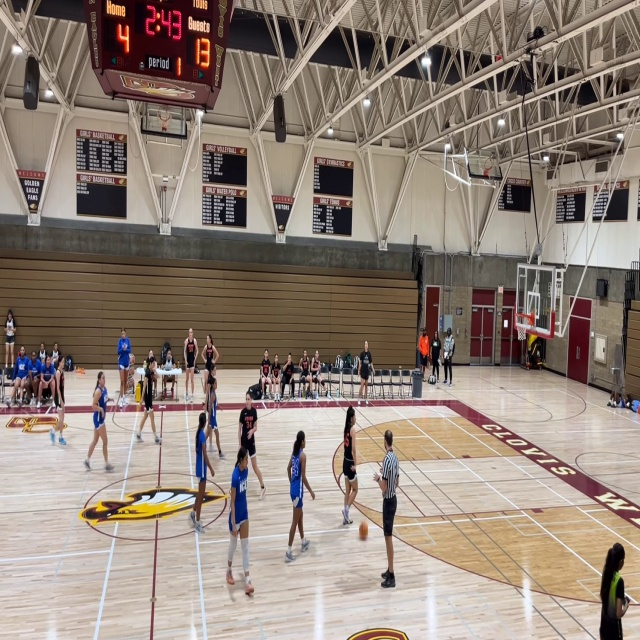Basketball: (359, 521, 368, 536)
